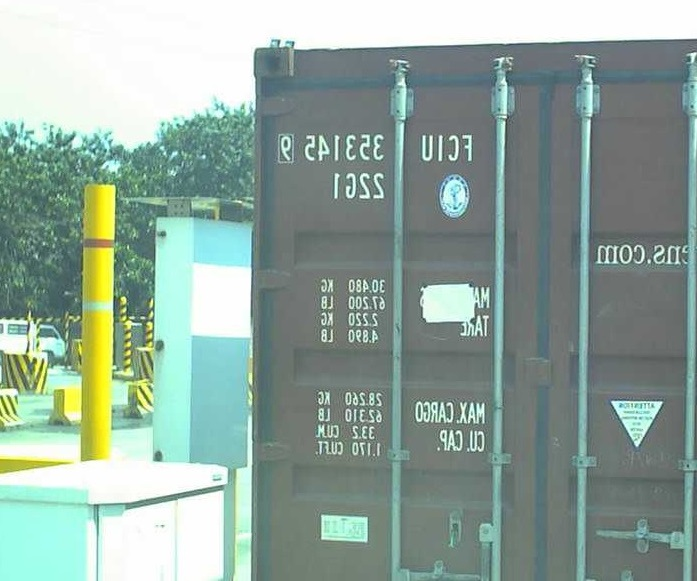container_door: (250, 49, 697, 580)
